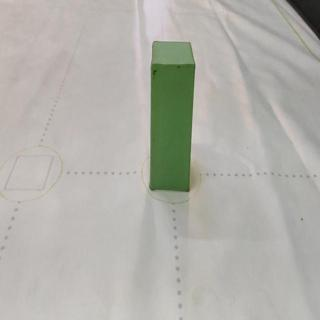greenbox: (148, 38, 198, 193)
